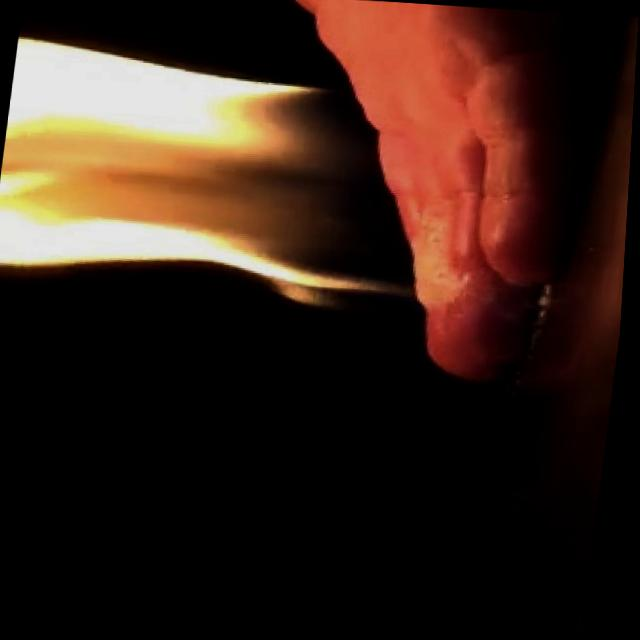helmet: (0, 31, 476, 322)
